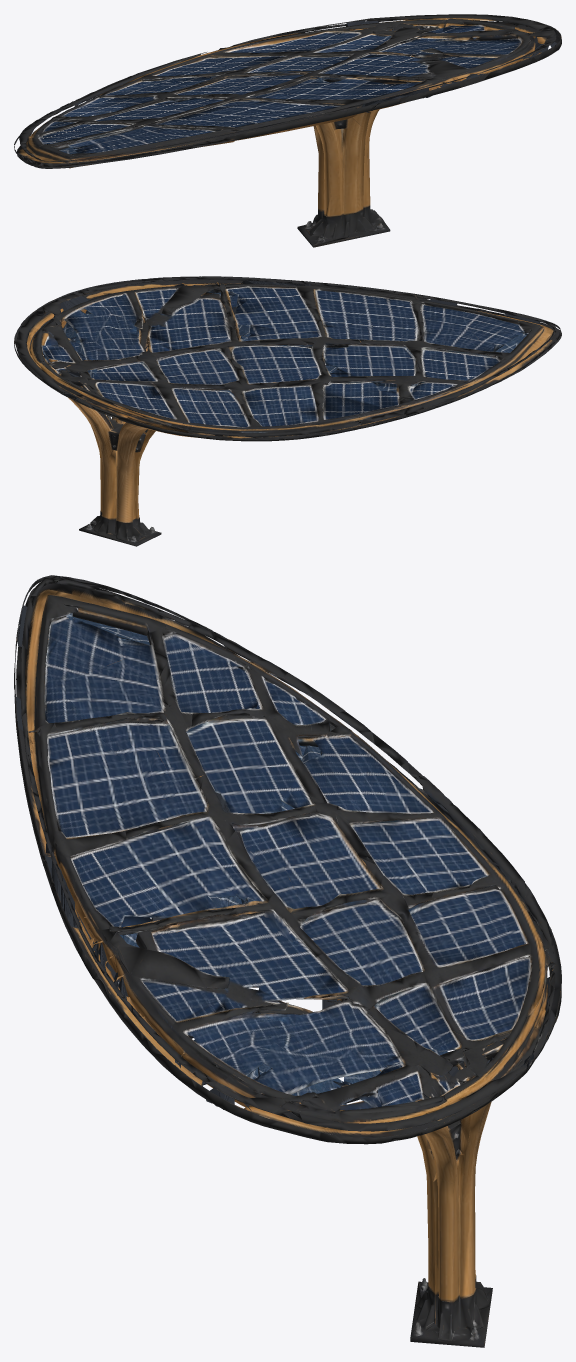
The model's file is midori_2050_leaf_canopy.glb.
The picture shows the model from 3 angles, top to bottom: view 1: azimuth 30°, elevation 25°; view 2: azimuth 150°, elevation 25°; view 3: azimuth 270°, elevation 25°; orthographic projection. The views are drawn at different scales.
Parts seen in each view (by area): view 1: Midori2050_LeafCanopy, MidoriCanopyLocalRoofRepairs; view 2: Midori2050_LeafCanopy, MidoriCanopyLocalRoofRepairs; view 3: Midori2050_LeafCanopy, MidoriCanopyLocalRoofRepairs.
Boxes of the visible parts, x1,y1,x2,y2 form: Midori2050_LeafCanopy: [14, 14, 561, 247]; MidoriCanopyLocalRoofRepairs: [59, 20, 559, 163]; Midori2050_LeafCanopy: [14, 276, 561, 546]; MidoriCanopyLocalRoofRepairs: [30, 280, 539, 400]; Midori2050_LeafCanopy: [14, 575, 561, 1347]; MidoriCanopyLocalRoofRepairs: [14, 605, 549, 1110].
Bounding box in the file's own units: 9.8 × 4.2 × 5.
3 materials, 2 textured.
